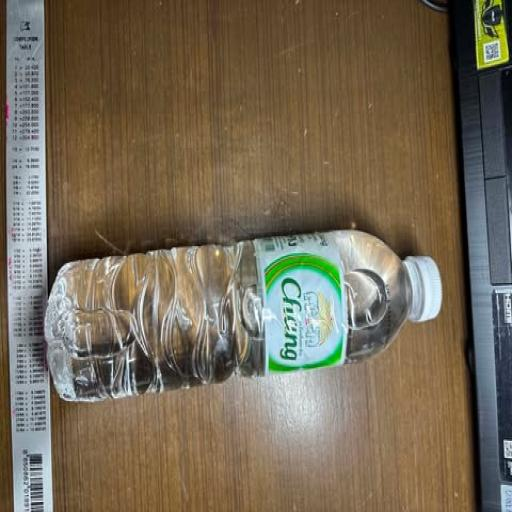bottle: (28, 213, 462, 406)
